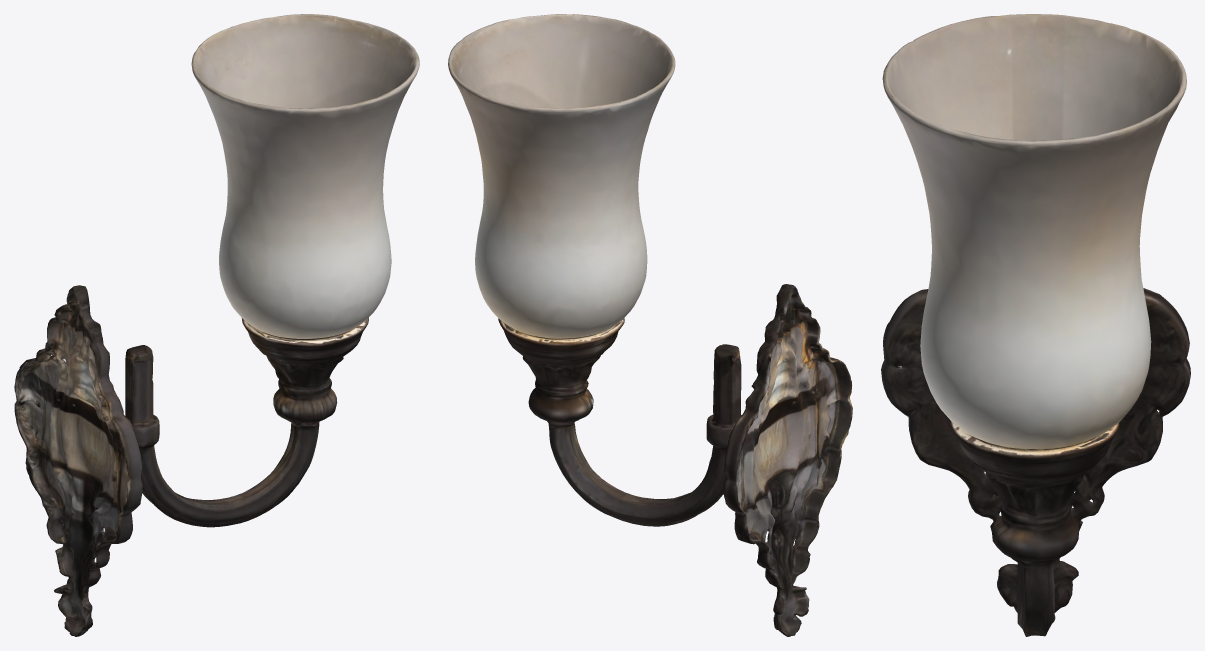
The model's file is Lampe_Murale3.glb.
3 views of the same model, side by side, from view 1: azimuth 30°, elevation 25°; view 2: azimuth 150°, elevation 25°; view 3: azimuth 270°, elevation 25° (orthographic). The views are drawn at different scales.
Parts seen in each view (by area): view 1: Mesh1; view 2: Mesh1; view 3: Mesh1.
Part boxes in pixels (x1,y1,x2,y2): Mesh1: [14, 14, 419, 636]; Mesh1: [448, 14, 852, 636]; Mesh1: [881, 14, 1190, 636].
Bounding box in the file's own units: 1.36 × 2.01 × 0.8115.
Materials: 1 (1 with a texture image).
